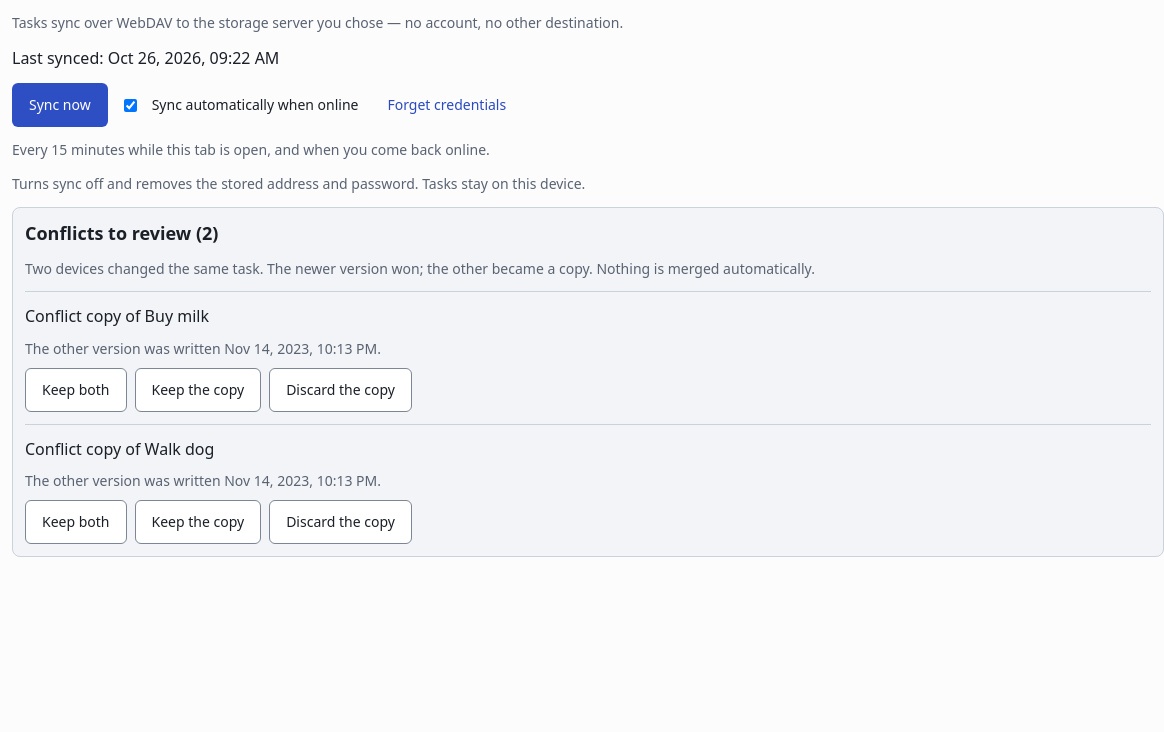
Test: conflict-copy surfacing + resolve actions (S9) › a failed resolve reports loudly and leaves the conflict pending (no silent loss)
Click the button "Keep the copy" below "Conflict copy of Buy milk": (198, 390) left=134, top=368, right=261, bottom=412
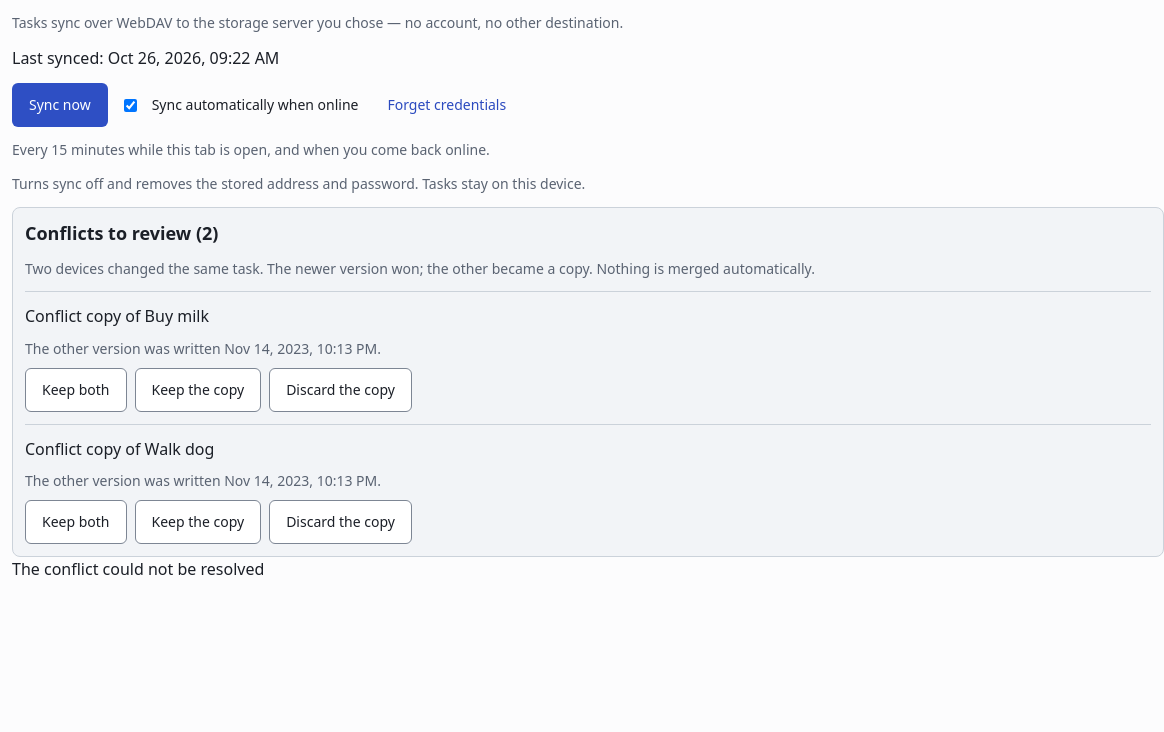
Expected: the text "Conflict copy of Buy milk" is shown, left=25, top=305, right=209, bottom=327
Now the text "could not be resolved" is shown, box left=12, top=558, right=264, bottom=580
